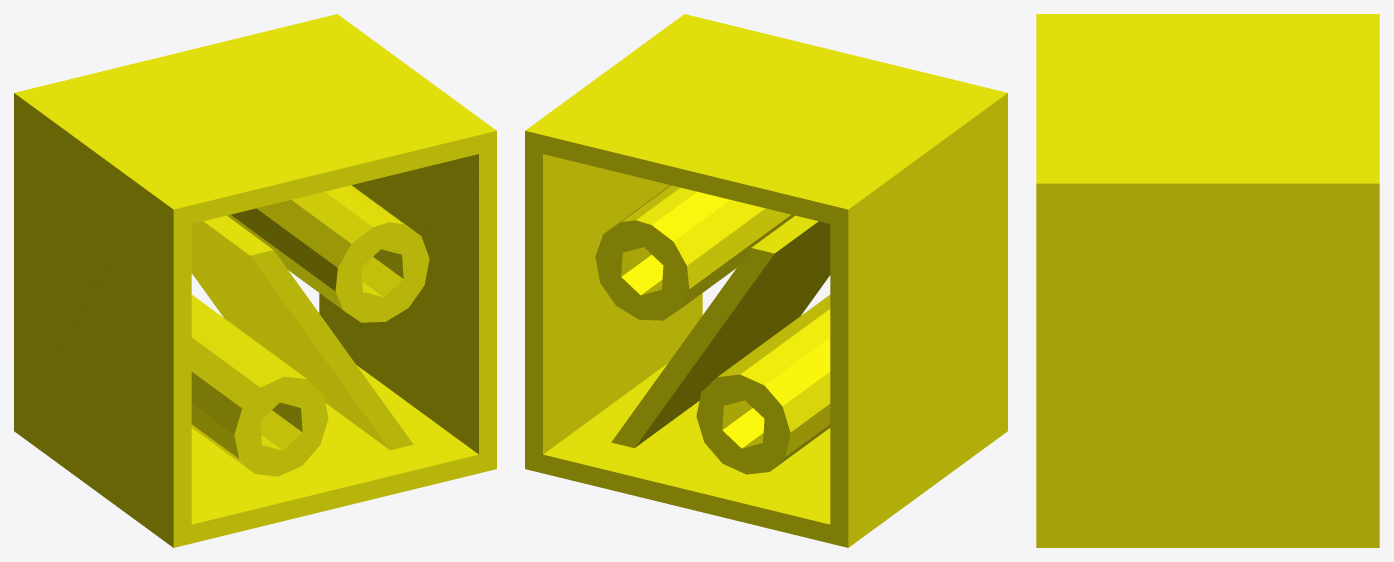
The model's file is PercentHighlight.fbx.
3 renders of one model, left to right at view 1: azimuth 30°, elevation 25°; view 2: azimuth 150°, elevation 25°; view 3: azimuth 270°, elevation 25°, orthographic. The views are drawn at different scales.
Visible parts, largest first — view 1: PercentHighlight; view 2: PercentHighlight; view 3: PercentHighlight.
Part boxes in pixels (left/top/right/bottom): PercentHighlight: left=14, top=14, right=496, bottom=547; PercentHighlight: left=525, top=14, right=1007, bottom=547; PercentHighlight: left=1036, top=14, right=1379, bottom=547.
Size of the model in its own units: 224 by 224 by 191.
